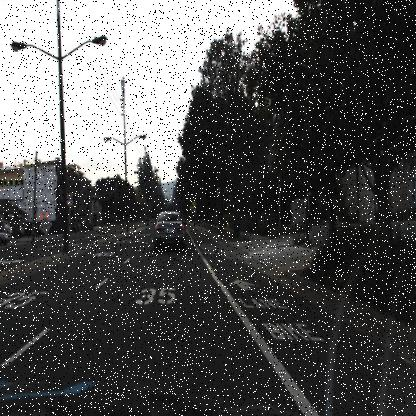car: (150, 208, 188, 254), (0, 221, 18, 254)
